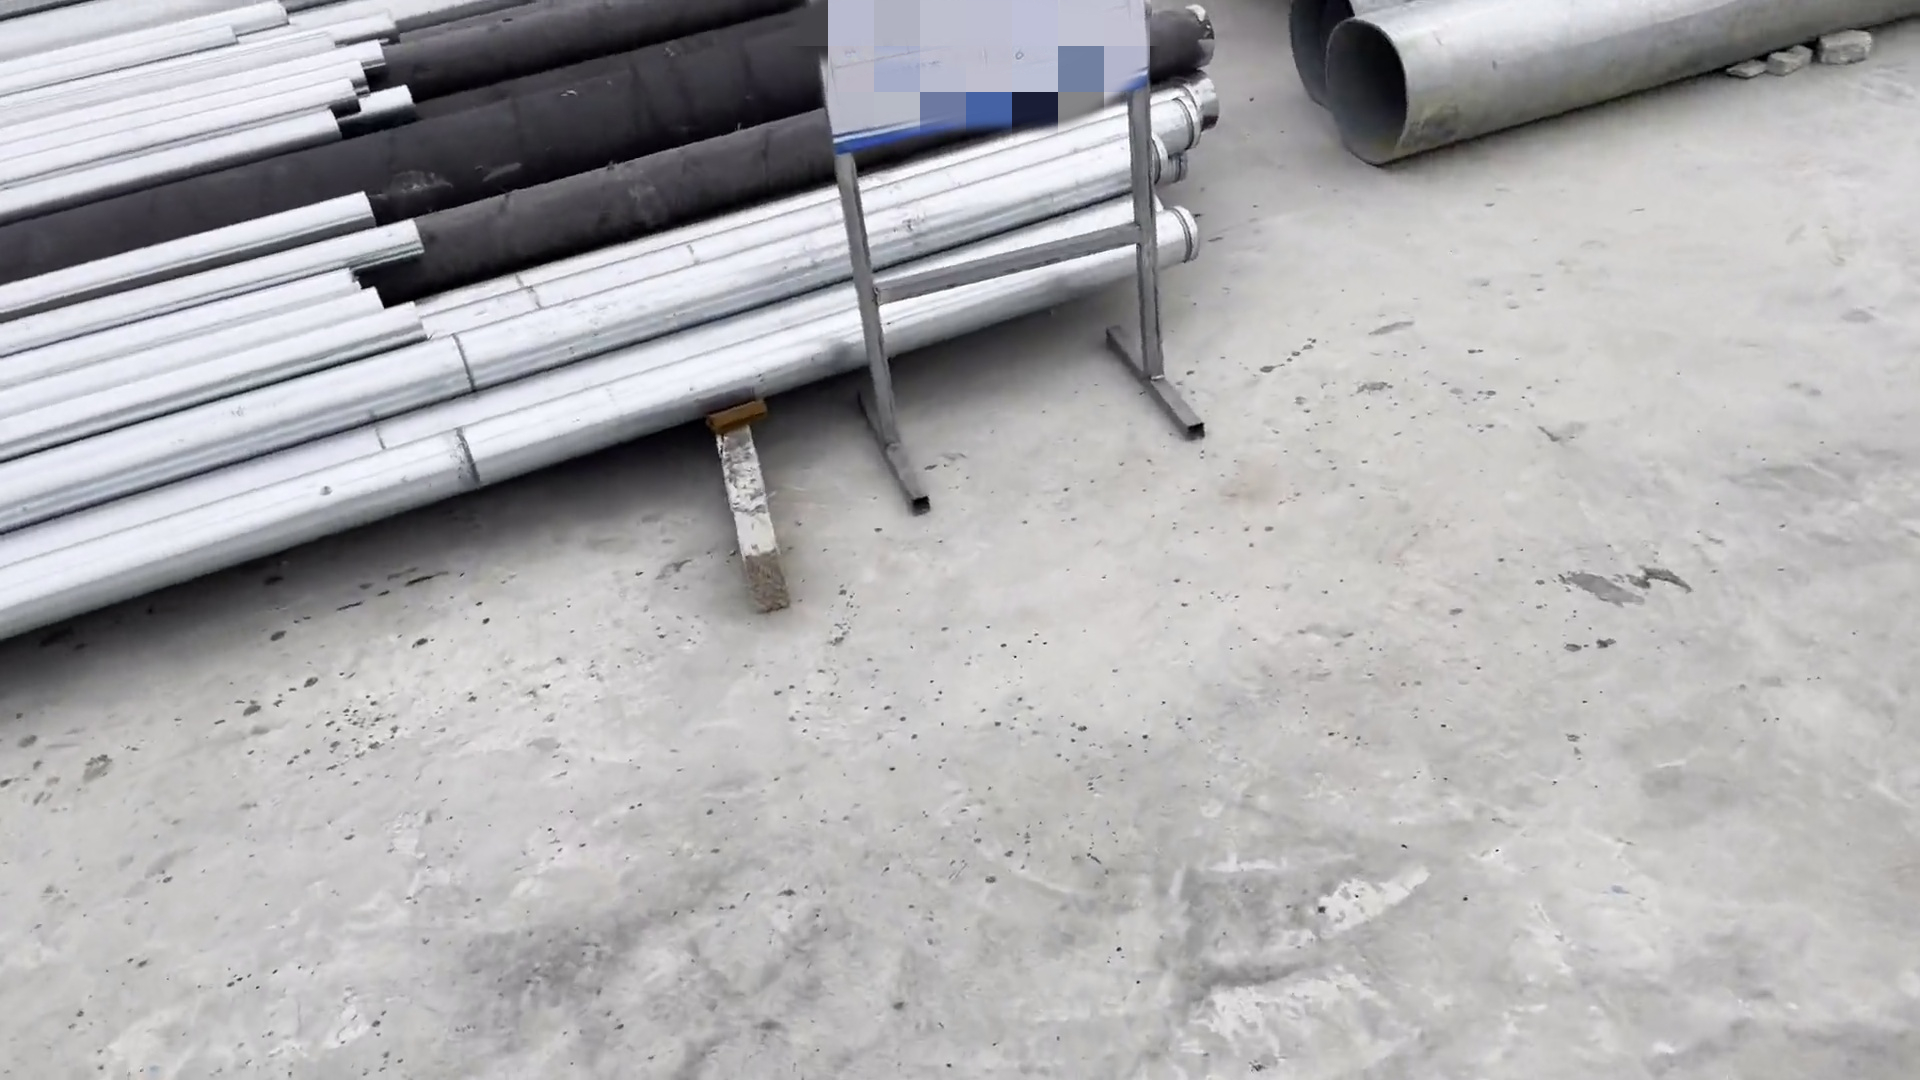slogan: (793, 3, 1197, 191)
